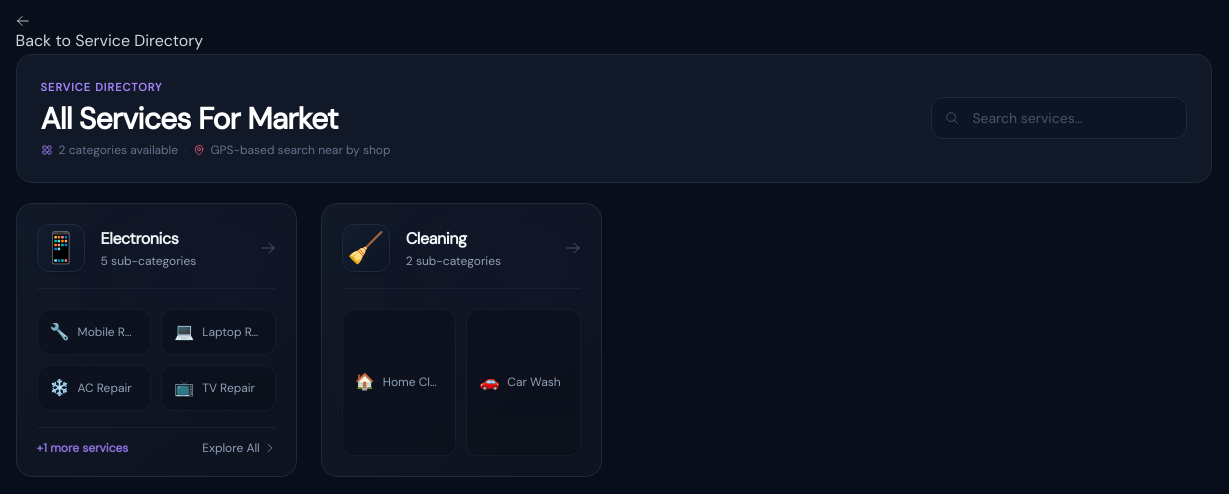
Test: AllServices Page › clears search input via the "X" button
Type "Cleaning" into the field with placeholder "Search services…" at point(1059, 118), box [931,97,1187,139]
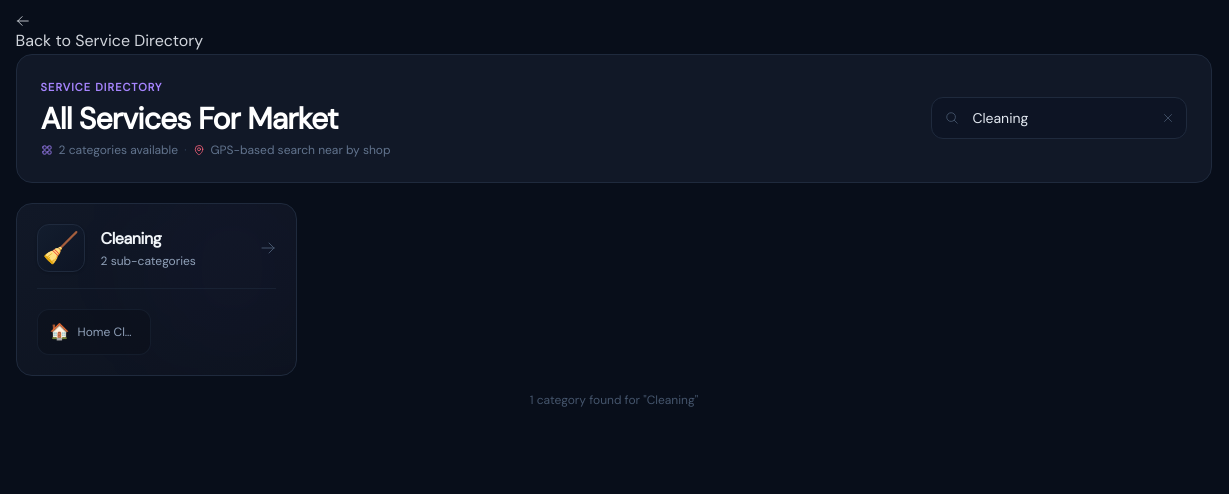
Click the 1st button at point(1168, 118), box [1161,111,1175,125]
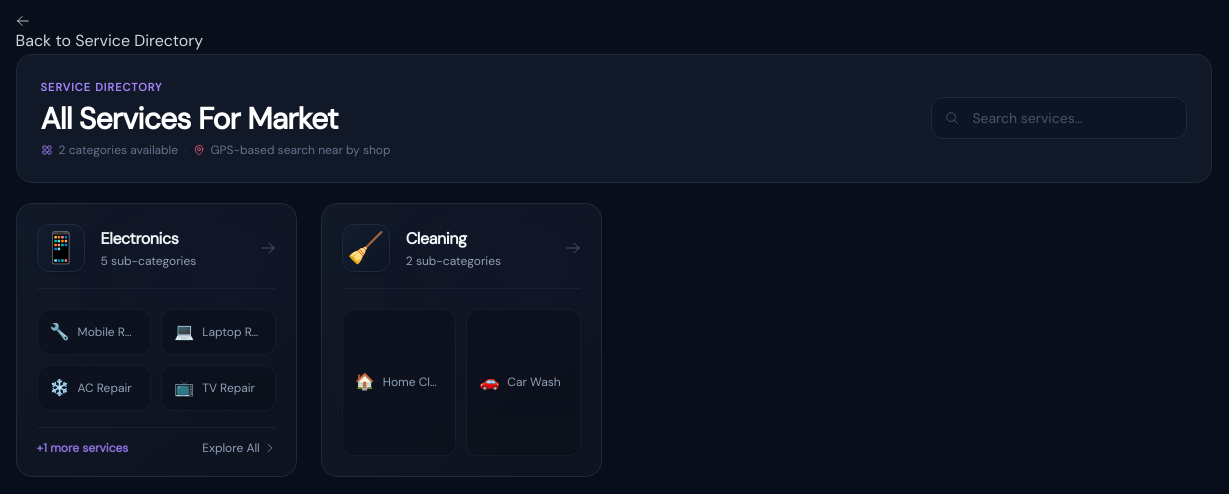
Result: the field with placeholder "Search services…" is empty at [931,97,1187,139]
Result: the heading "Electronics" is shown at [101,228,178,249]
